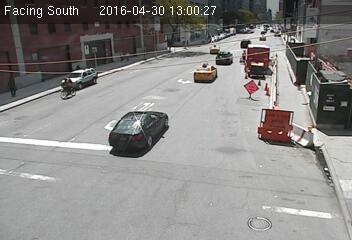neg: (307, 68, 332, 101), (264, 24, 284, 51), (242, 74, 261, 99), (130, 98, 147, 121), (81, 61, 98, 83), (185, 67, 200, 86), (206, 18, 219, 35), (336, 39, 347, 54), (175, 27, 186, 41), (160, 32, 169, 44)
pos: (3, 73, 21, 98), (238, 48, 251, 66), (123, 51, 132, 63)
